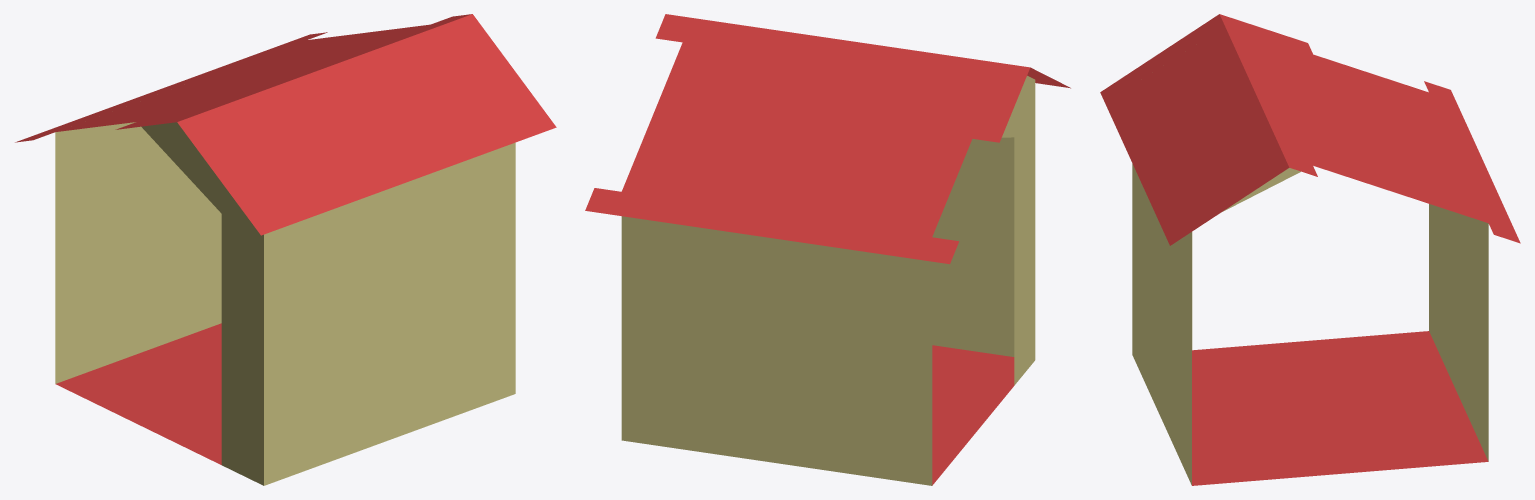
3 views of the same model, side by side, from view 1: azimuth 30°, elevation 25°; view 2: azimuth 150°, elevation 25°; view 3: azimuth 270°, elevation 25° (orthographic). The views are drawn at different scales.
Size of the model in its own units: 11.73 by 11.45 by 9.67.
